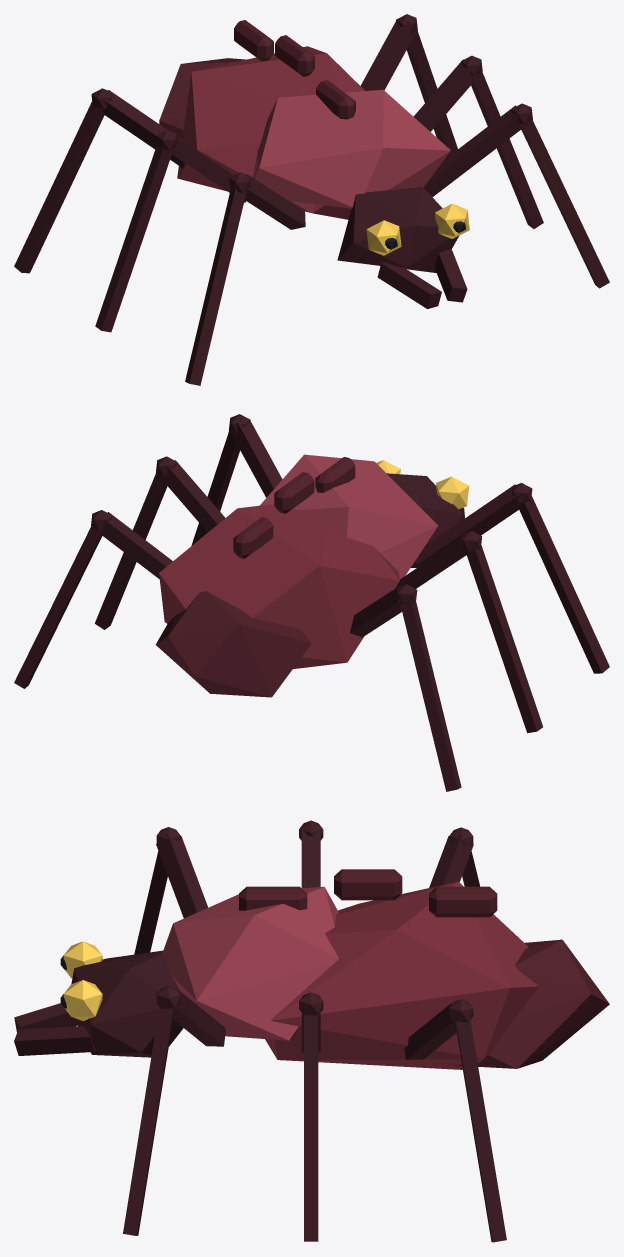
File: ennemi_eclaireur.glb
The picture shows the model from 3 angles, top to bottom: view 1: azimuth 30°, elevation 25°; view 2: azimuth 150°, elevation 25°; view 3: azimuth 270°, elevation 25°; orthographic projection. The views are drawn at different scales.
Visible parts, largest first — view 1: corps_carapace_claire.002, pattes_a_chitine.002, pattes_b_chitine.002, corps_carapace.002, corps_chitine.002, corps_carapace_sombre.002, corps_oeil.006; view 2: corps_carapace.002, pattes_a_chitine.002, corps_carapace_sombre.002, pattes_b_chitine.002, corps_carapace_claire.002, corps_chitine.002, corps_oeil.006; view 3: corps_carapace.002, corps_carapace_claire.002, corps_carapace_sombre.002, pattes_b_chitine.002, corps_chitine.002, pattes_a_chitine.002, corps_oeil.006.
Boxes of the visible parts, x1,y1,x2,y2 form: corps_carapace_claire.002: (253,89,450,208); pattes_a_chitine.002: (14,55,543,385); pattes_b_chitine.002: (95,14,609,332); corps_carapace.002: (177,46,364,219); corps_chitine.002: (337,187,467,308); corps_carapace_sombre.002: (159,20,355,139); corps_oeil.006: (366,203,469,255); corps_carapace.002: (159,504,399,668); pattes_a_chitine.002: (95,456,609,791); corps_carapace_sombre.002: (155,457,355,697); pattes_b_chitine.002: (14,414,542,733); corps_carapace_claire.002: (260,454,438,578); corps_chitine.002: (387,473,464,567); corps_oeil.006: (376,460,469,509); corps_carapace.002: (265,881,538,1069); corps_carapace_claire.002: (163,886,338,1040); corps_carapace_sombre.002: (239,869,609,1068); pattes_b_chitine.002: (123,820,506,1242); corps_chitine.002: (14,950,183,1057); pattes_a_chitine.002: (134,827,479,1241); corps_oeil.006: (63,941,102,1020).
Size of the model in its own units: 0.7802 by 0.3653 by 0.7843.
